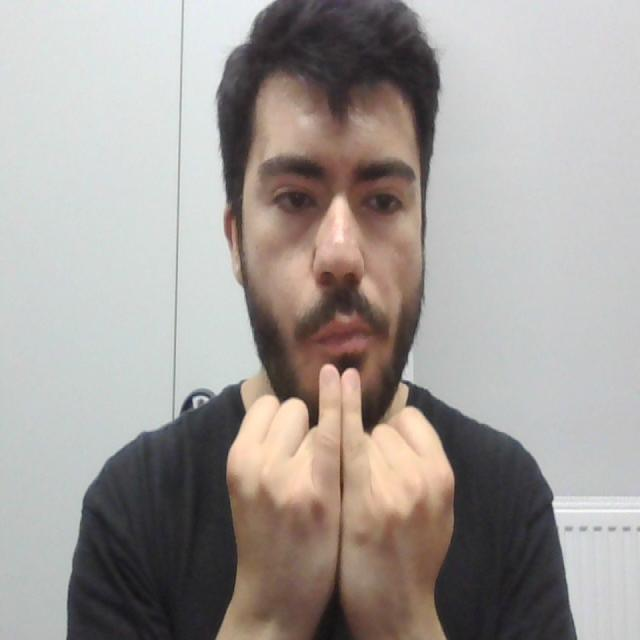Kardes: (217, 352, 463, 640)
